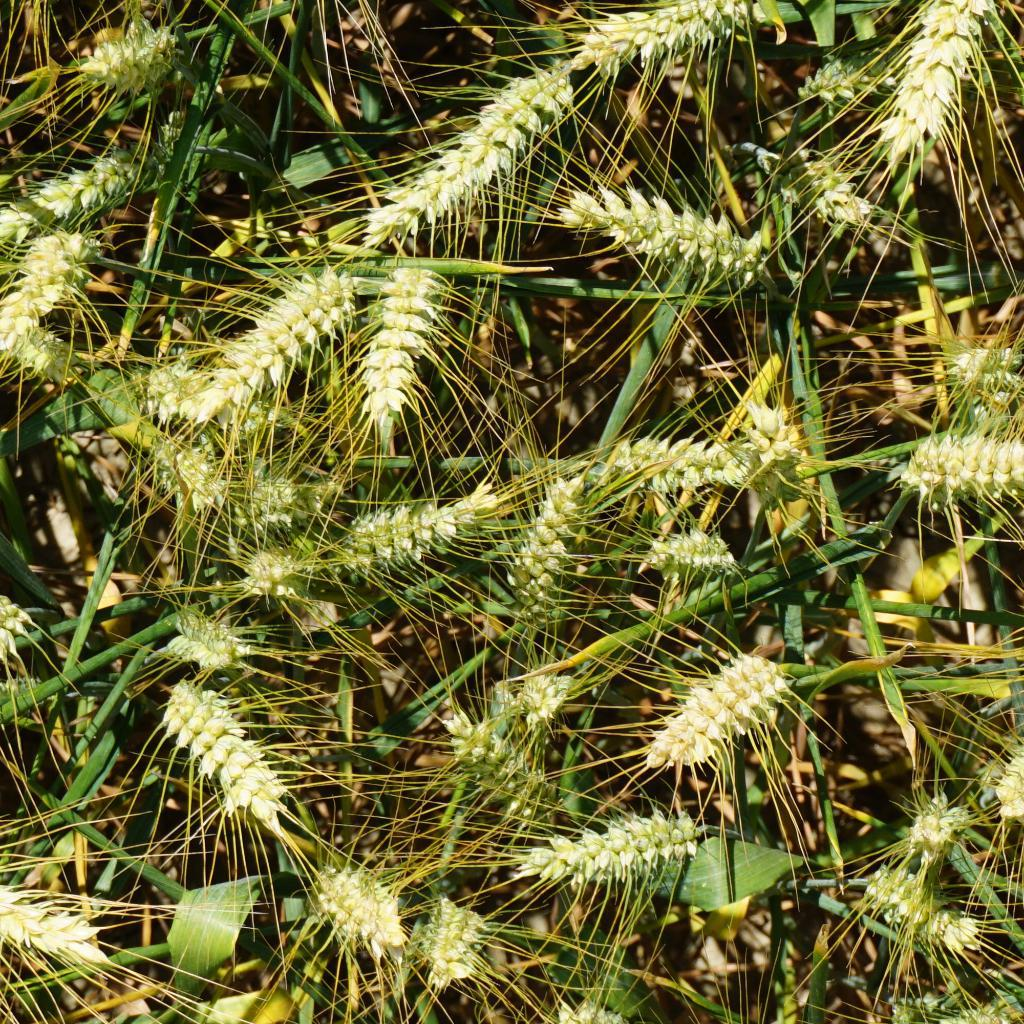0-0: (350, 74, 572, 226), (629, 634, 796, 790), (147, 672, 299, 843), (870, 0, 1000, 174), (553, 178, 765, 280), (356, 248, 459, 444), (0, 816, 119, 979), (499, 806, 719, 894), (303, 843, 414, 986), (862, 403, 1024, 497), (0, 137, 150, 237), (229, 271, 350, 387), (314, 489, 476, 572), (856, 869, 983, 961), (567, 1, 751, 60), (0, 233, 101, 330), (616, 432, 748, 506), (453, 716, 549, 805), (522, 459, 580, 599), (151, 370, 272, 437), (734, 402, 803, 515), (0, 581, 43, 758), (64, 26, 181, 88), (425, 890, 494, 989), (640, 519, 743, 585), (0, 317, 88, 385), (896, 785, 976, 851), (150, 435, 222, 504), (159, 609, 251, 663), (973, 728, 1024, 824), (944, 337, 1024, 394), (226, 465, 301, 524), (800, 162, 865, 224), (798, 55, 884, 101), (235, 546, 308, 598), (517, 668, 580, 720), (1003, 595, 1024, 717), (893, 1005, 1018, 1024), (549, 1003, 636, 1024)
